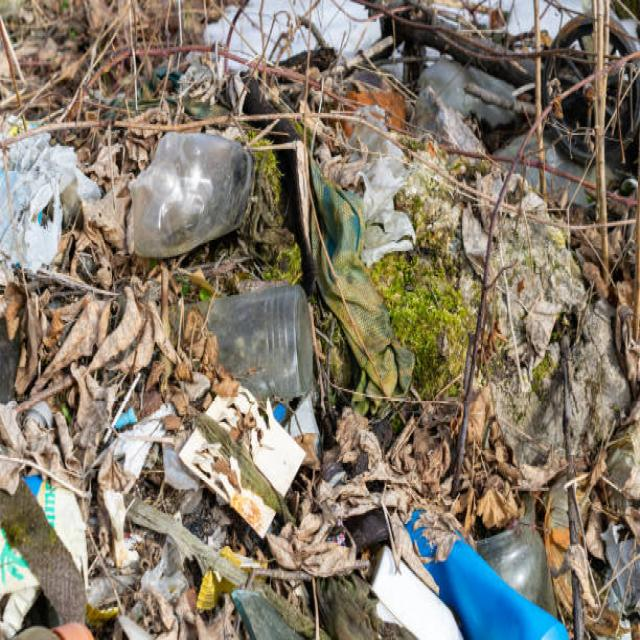plastic: (146, 122, 347, 449)
